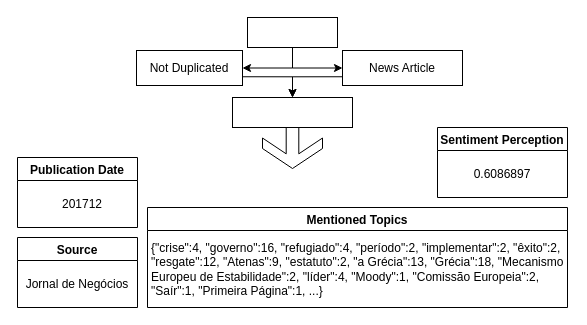
The diagram is 587 pixels wide and 325 high, and some of its shapes have lost their labels. Each missing label, with the centre of its shape:
"Input Text" belongs at point (292, 32).
"Process it" belongs at point (292, 112).
